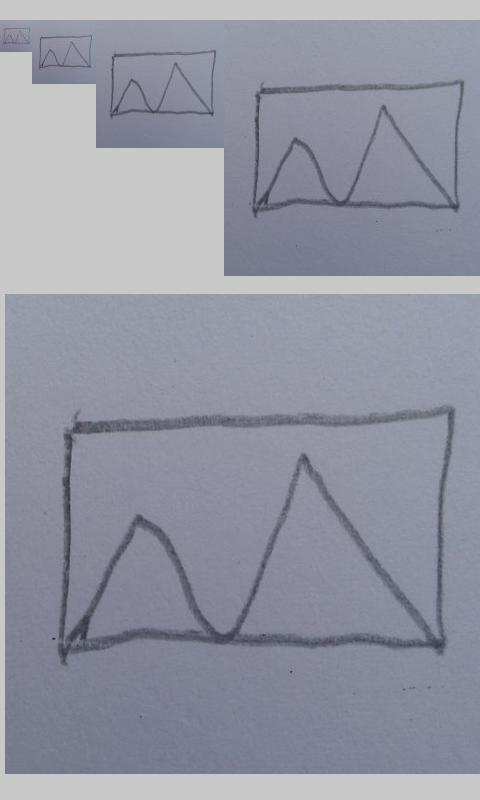image_view: (57, 406, 454, 656), (252, 78, 465, 213), (110, 50, 216, 117), (38, 35, 93, 69), (3, 27, 31, 45)
